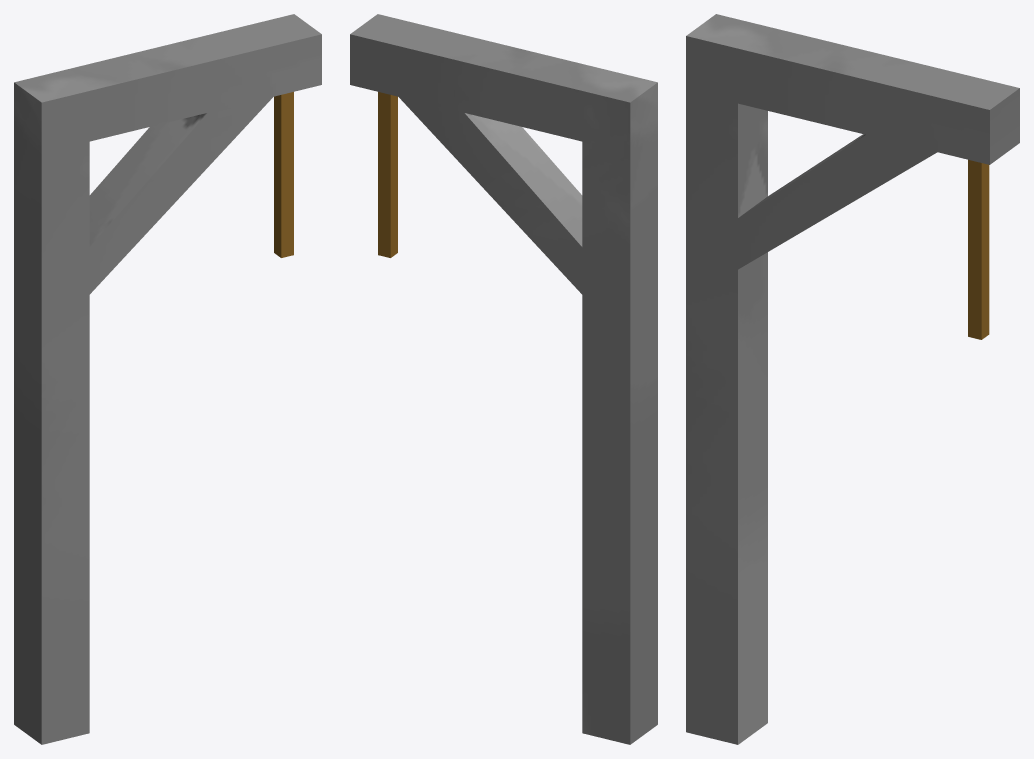
The model's file is obj_longdie.obj.
The picture shows the model from 3 angles, left to right: view 1: azimuth 30°, elevation 25°; view 2: azimuth 150°, elevation 25°; view 3: azimuth 330°, elevation 25°; orthographic projection. The views are drawn at different scales.
Parts seen in each view (by area): view 1: Cube; view 2: Cube; view 3: Cube.
Part boxes in pixels (<box>): Cube: <box>14,14,321,744</box>; Cube: <box>350,14,657,744</box>; Cube: <box>686,14,1019,744</box>.
Bounding box in the file's own units: 5.77 × 12.64 × 0.9875.
Materials: 1 (1 with a texture image).
